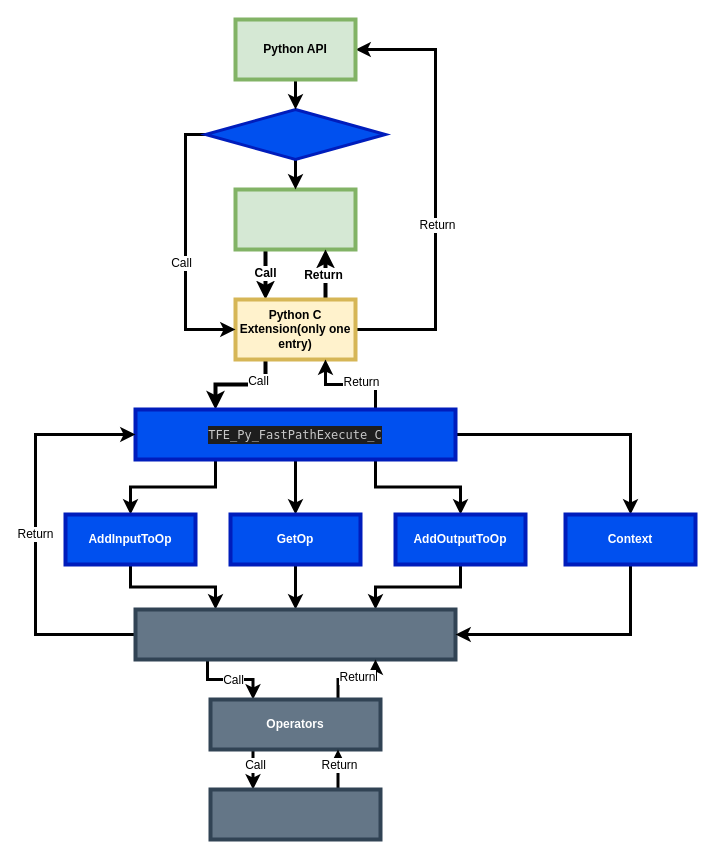
The diagram is 714 pixels wide and 858 high, and some of its shapes have lost their labels. The centre of each missing label's shape, as x and y in pixels:
AutoGrad: the point at 295,219
Kernels: the point at 295,814
RecordGradient: the point at 295,134
TFE_Execute: the point at 295,634
